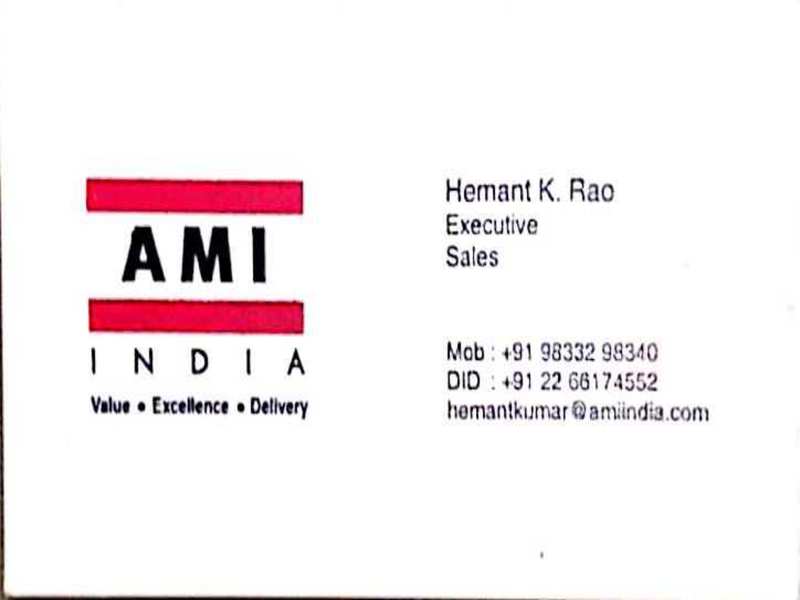card: (47, 137, 756, 464)
